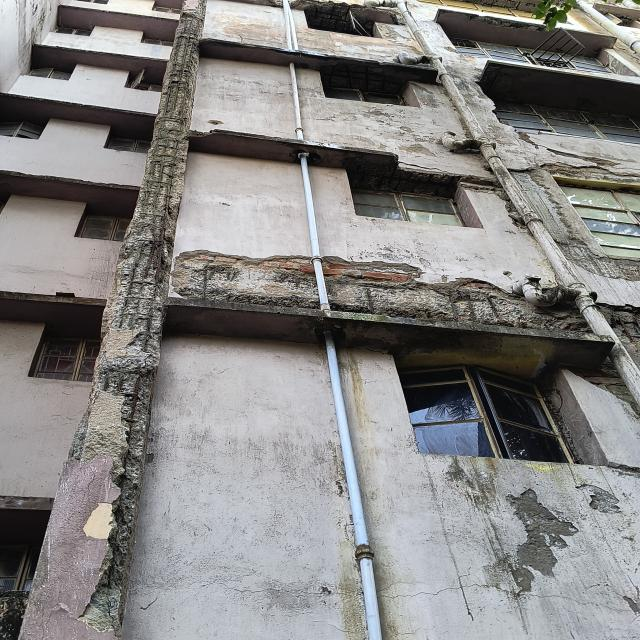Scaling: (217, 5, 638, 285), (456, 461, 640, 616), (158, 193, 166, 201)
Spalling: (20, 0, 207, 640), (321, 257, 590, 332), (434, 8, 615, 57), (173, 250, 319, 309), (304, 3, 370, 36), (392, 162, 399, 170), (238, 283, 245, 290), (435, 168, 441, 172)
